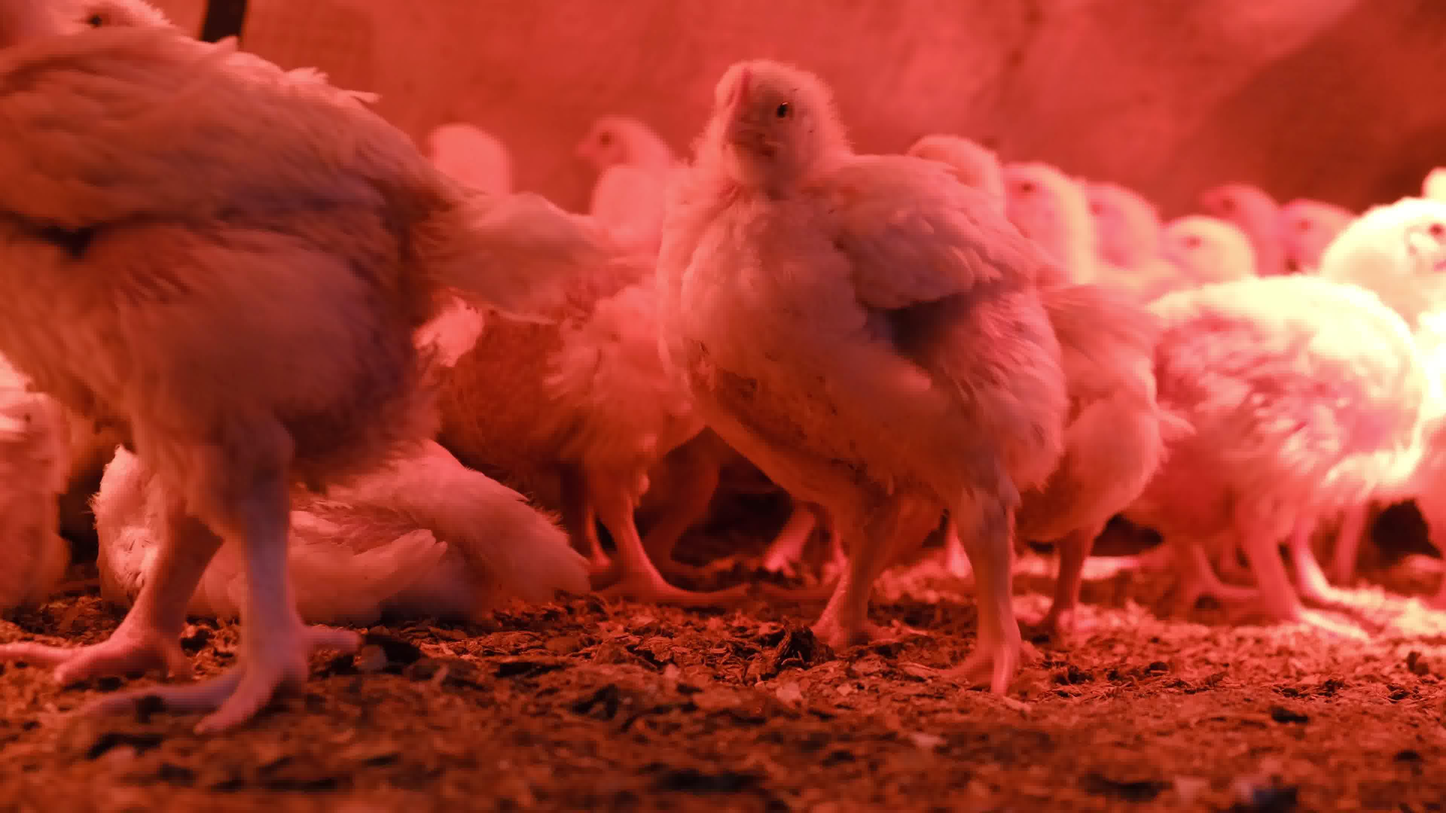AbNormal: (96, 395, 593, 620), (0, 372, 78, 614)
Normal: (0, 0, 620, 739), (661, 61, 1170, 714), (1112, 196, 1446, 643), (430, 175, 763, 613), (900, 126, 1162, 651), (577, 113, 700, 234), (1006, 155, 1093, 292), (1081, 179, 1167, 303), (1196, 181, 1308, 270), (1284, 200, 1367, 270), (1160, 219, 1242, 267)
